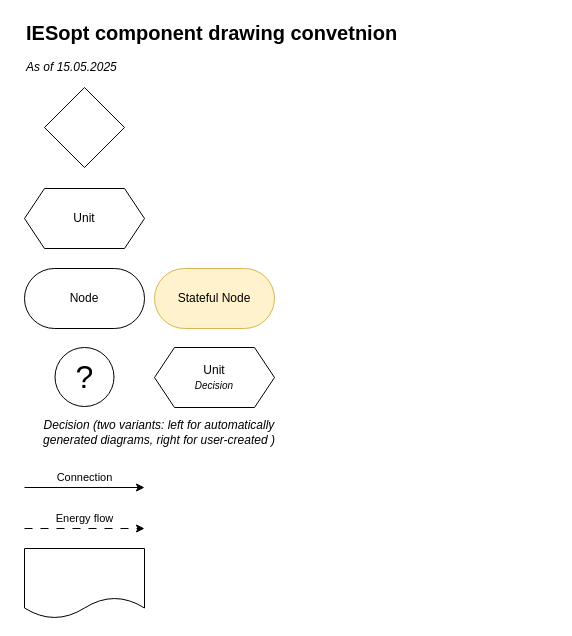
This 572x636 diagram has some shape labels left out. The box of each missing label's shape, as (x1, y1, x2, y2) in pixels:
Profile: (44, 86, 124, 168)
Template: (24, 548, 144, 618)
